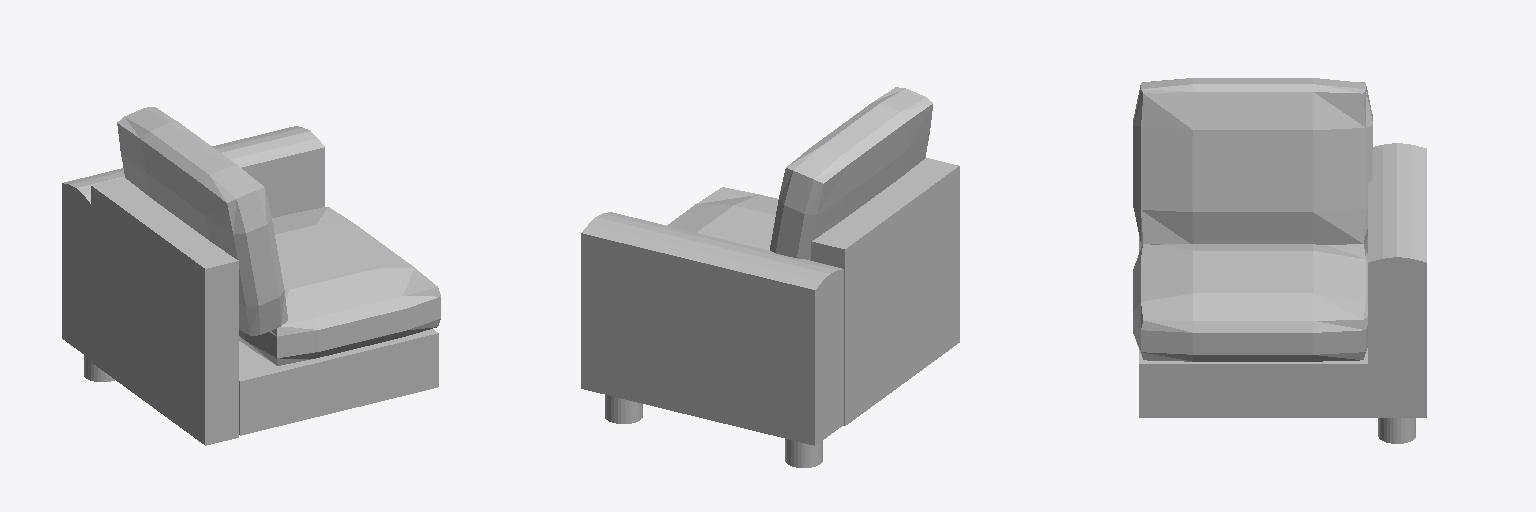
File: simple_single_sofa_3.obj
3 views of the same model, side by side, from view 1: azimuth 30°, elevation 25°; view 2: azimuth 150°, elevation 25°; view 3: azimuth 270°, elevation 25° (orthographic).
Visible parts, largest first — view 1: Cube.004, Cube.002, Cube.005, Cube, Cube.003; view 2: Cube.003, Cube.004, Cube.005, Cube.002, Cylinder.002, Cylinder.001; view 3: Cube.005, Cube.002, Cube.003, Cube, Cylinder.001.
Boxes of the visible parts, <box> form: Cube.004: <box>91,177,238,445</box>; Cube.002: <box>239,207,440,365</box>; Cube.005: <box>117,107,287,335</box>; Cube: <box>239,329,438,435</box>; Cube.003: <box>62,126,324,358</box>; Cube.003: <box>581,212,843,445</box>; Cube.004: <box>811,158,959,425</box>; Cube.005: <box>770,87,932,260</box>; Cube.002: <box>667,187,778,250</box>; Cylinder.002: <box>785,439,822,467</box>; Cylinder.001: <box>605,395,642,423</box>; Cube.005: <box>1133,78,1372,244</box>; Cube.002: <box>1133,244,1367,361</box>; Cube.003: <box>1368,143,1426,417</box>; Cube: <box>1139,348,1367,417</box>; Cylinder.001: <box>1378,418,1415,443</box>.
Size of the model in its own units: 2.44 by 2.66 by 2.56.